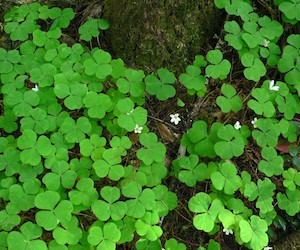oxalis: (4, 16, 163, 249), (172, 19, 300, 232)
